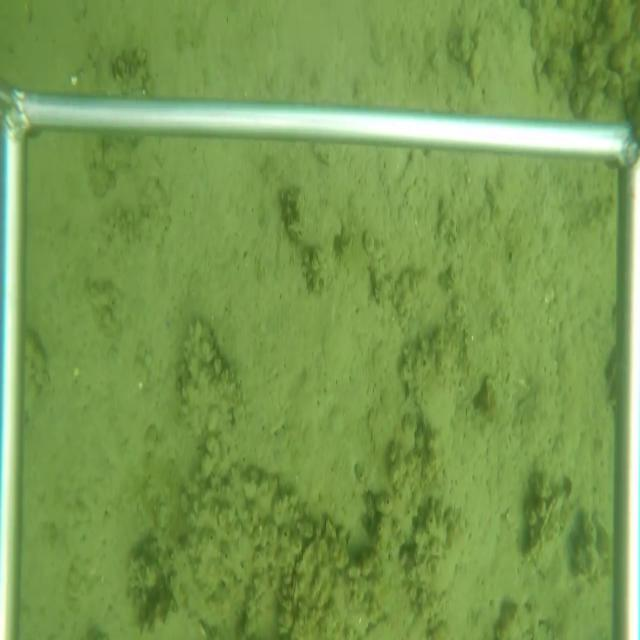Oyster-Closed: (291, 533, 330, 622), (526, 485, 563, 558)
